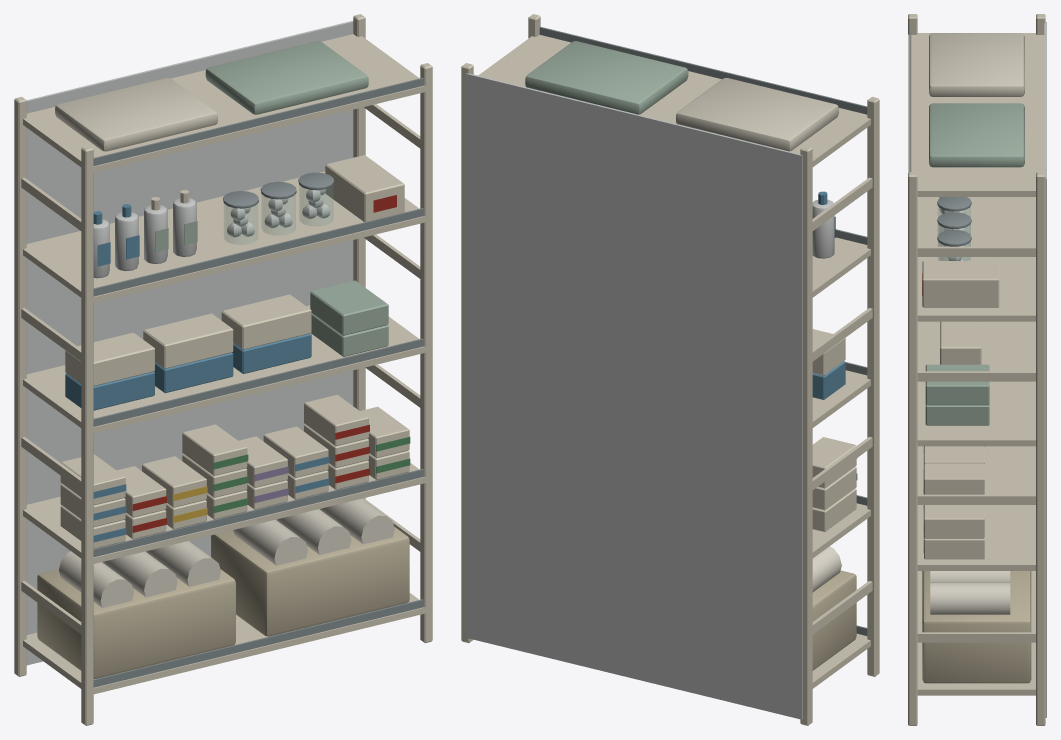
Rendered from acu-supply-shelf.glb.
3 views of the same model, side by side, from view 1: azimuth 30°, elevation 25°; view 2: azimuth 150°, elevation 25°; view 3: azimuth 270°, elevation 25° (orthographic). The views are drawn at different scales.
Parts seen in each view (by area): view 1: acu-supply-shelf; view 2: acu-supply-shelf; view 3: acu-supply-shelf.
Boxes of the visible parts, box(x1,y1,x2,y2) form: acu-supply-shelf: box(14, 14, 432, 725); acu-supply-shelf: box(461, 14, 879, 725); acu-supply-shelf: box(908, 14, 1046, 725).
Size of the model in its own units: 1.2 by 1.9 by 0.434.
